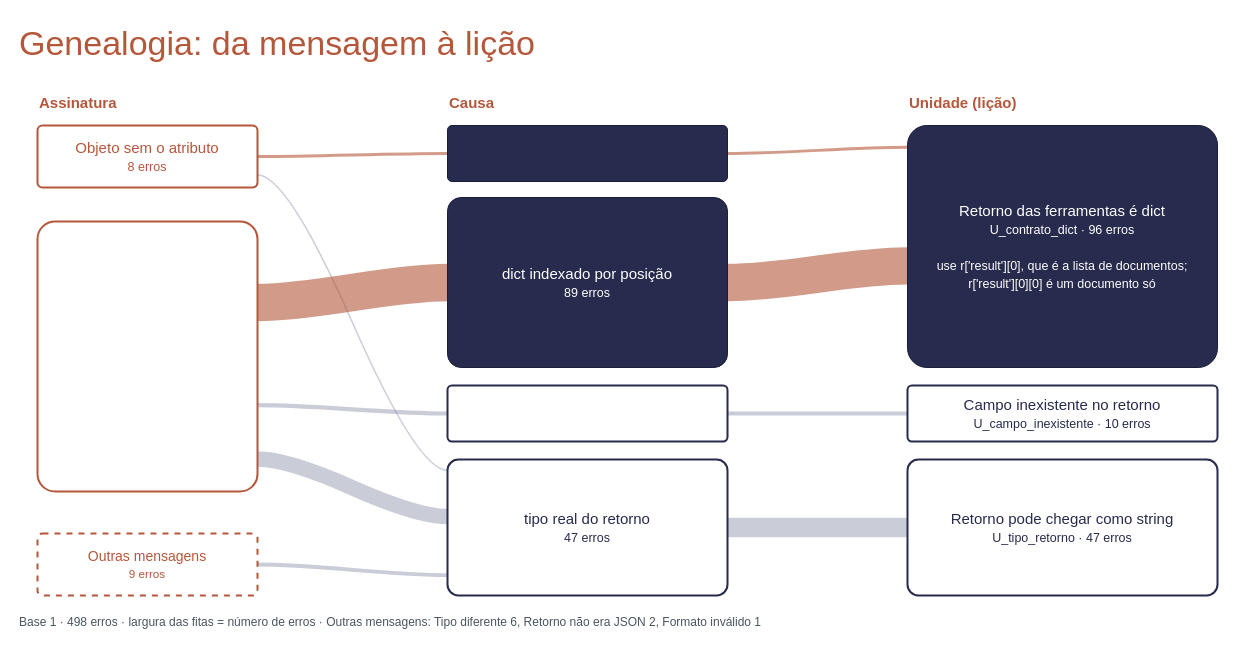
This 1235x650 diagram has some shape labels left out. Each missing label, with the centre of its shape:
campo inexistente 10 erros: point 587,413
Could not index 136 erros: point 147,356
dict iterado como lista 7 erros: point 587,153
